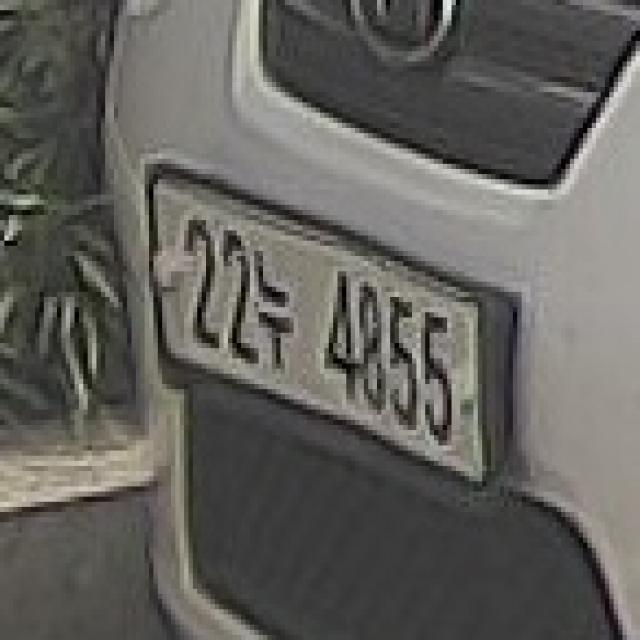2: (174, 203, 223, 362), (222, 219, 265, 375)
4: (318, 258, 363, 407)
5: (424, 297, 465, 469), (389, 282, 422, 439)
8: (356, 267, 388, 412)
license_plate: (156, 177, 482, 487)
nu: (260, 236, 297, 368)
